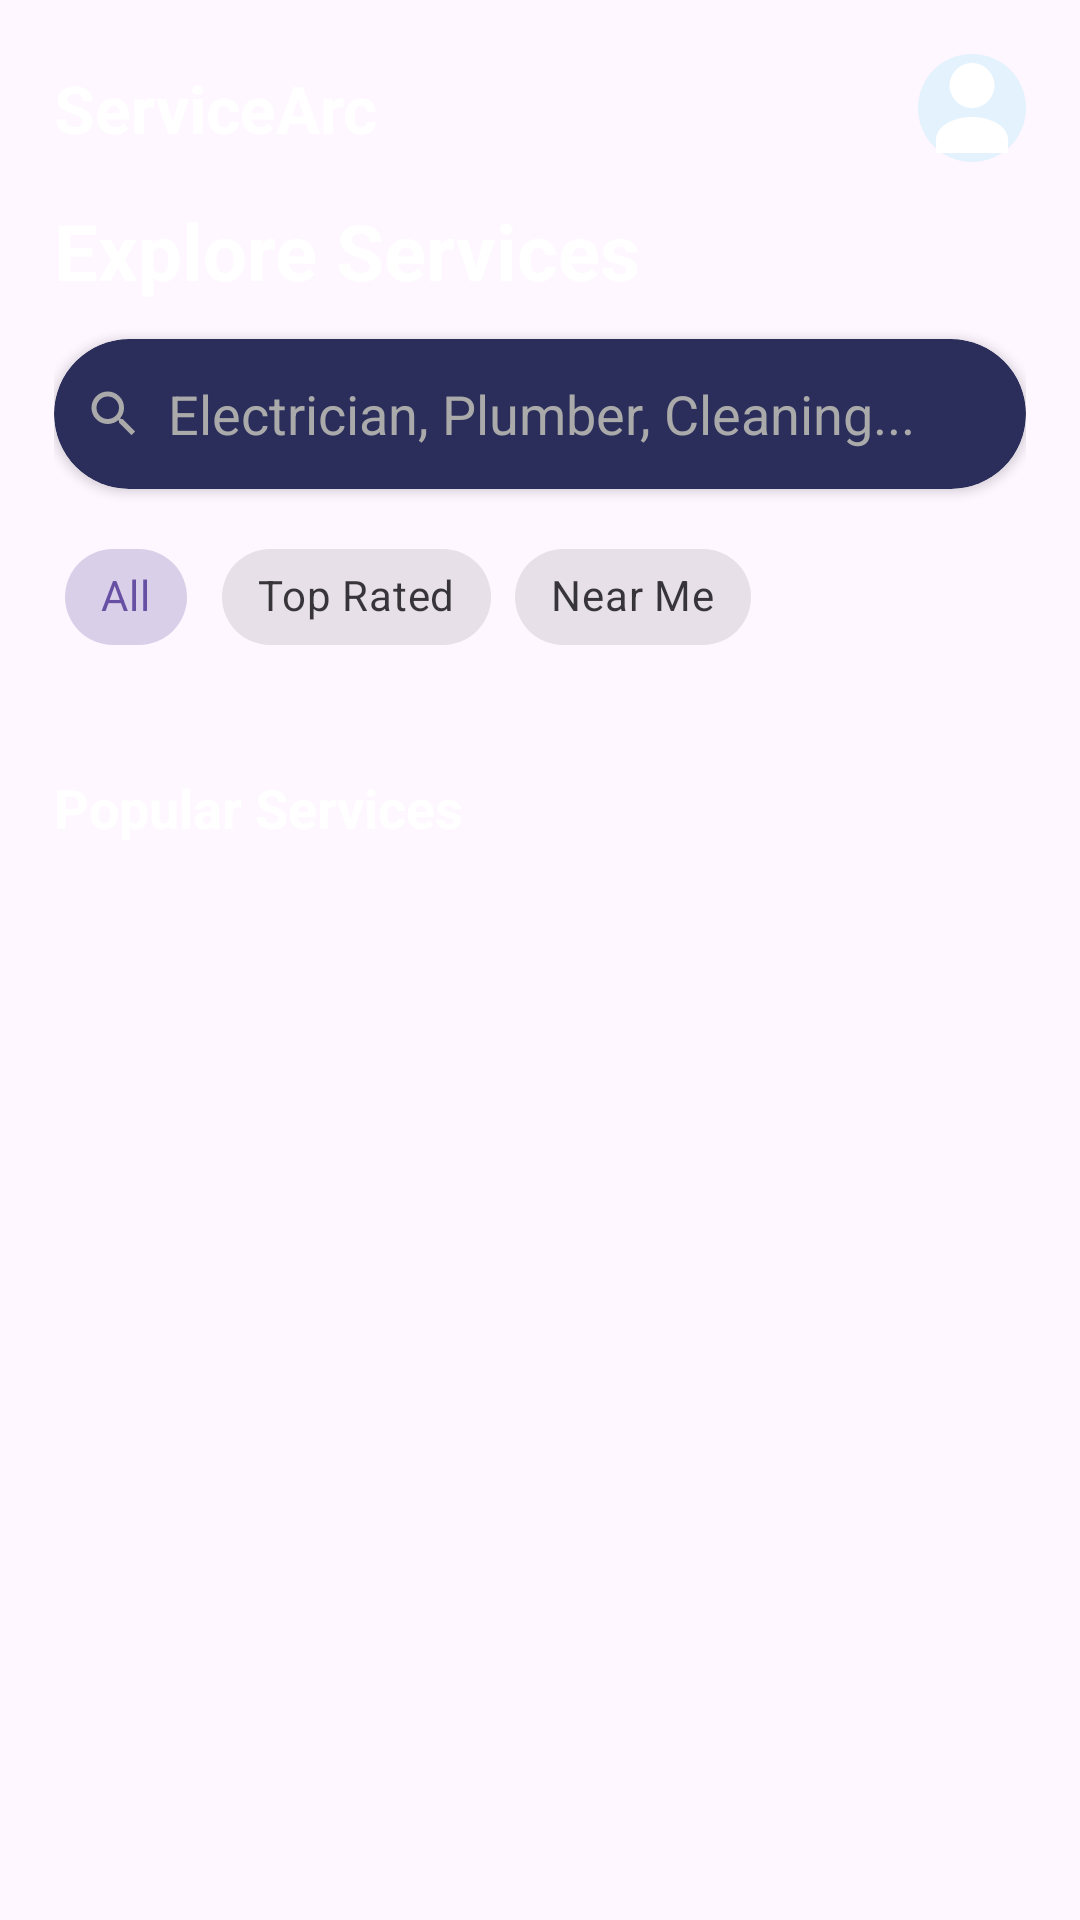

Screen size 1080px×1920px. Icon name, then its box in pixels as rect(x1, y1, x2, y2):
profile: rect(918, 54, 1026, 162)
search: rect(91, 391, 135, 435)
